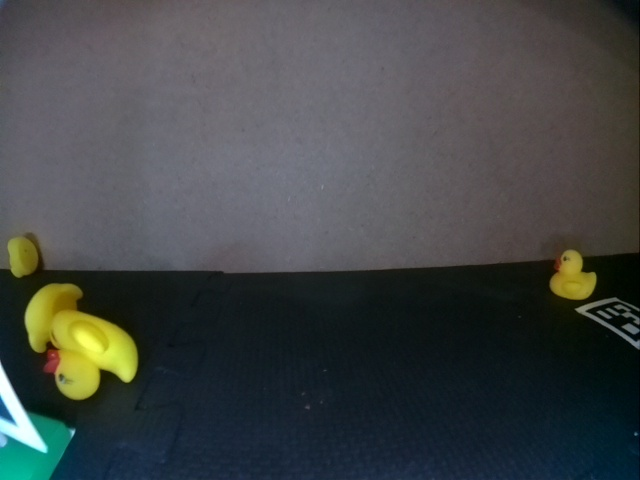Duckie: (46, 309, 138, 398), (26, 284, 83, 352), (551, 251, 597, 298), (7, 235, 38, 276)
QR code: (579, 300, 637, 347)
